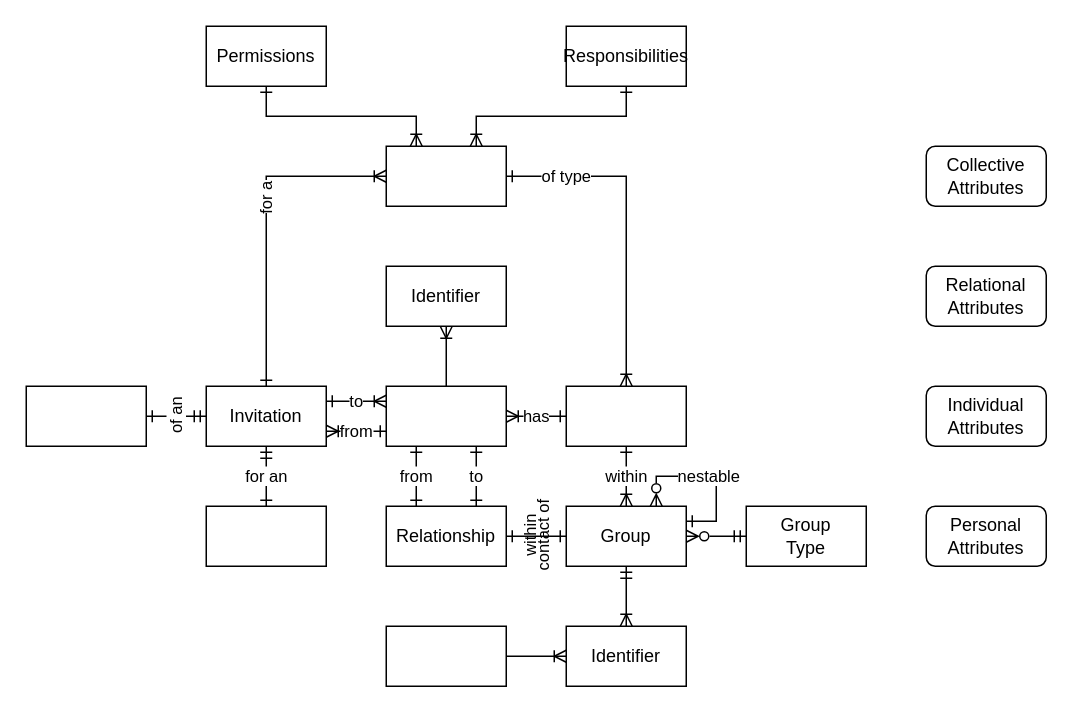
This 1073x713 diagram has some shape labels left out. The shapes that lost their labels are listed below. From the top down, each one's box as (x1, y1, x2, y2) in pixels, then its label:
(385, 145, 506, 206): Role Type
(25, 385, 146, 446): Acceptance
(385, 385, 506, 446): Identity
(565, 385, 686, 446): Role
(205, 505, 326, 566): Application
(385, 625, 506, 686): Identifier Type
